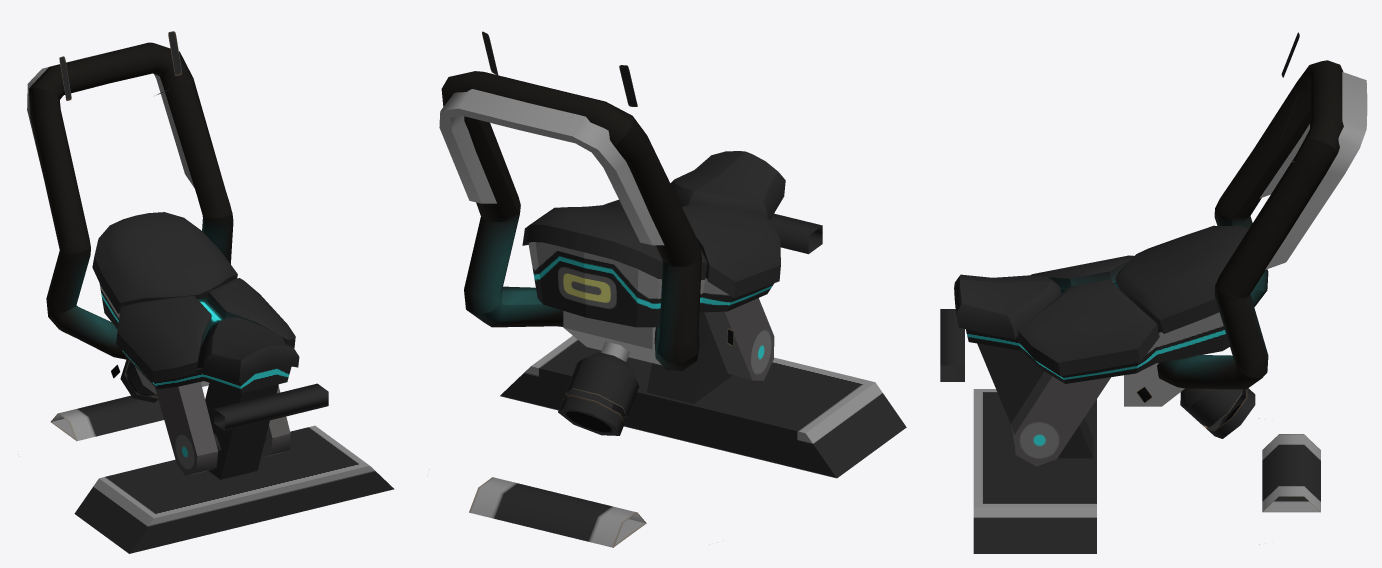
File: obj_interactive_saddle_05.fbx
3 renders of one model, left to right at view 1: azimuth 30°, elevation 25°; view 2: azimuth 150°, elevation 25°; view 3: azimuth 270°, elevation 25°, orthographic. The views are drawn at different scales.
Visible parts, largest first — view 1: obj_interactive_saddle_05; view 2: obj_interactive_saddle_05; view 3: obj_interactive_saddle_05.
Part boxes in pixels (box(x1,y1,x2,y2)): obj_interactive_saddle_05: box(18, 31, 394, 553); obj_interactive_saddle_05: box(429, 31, 906, 547); obj_interactive_saddle_05: box(940, 32, 1367, 553).
Bounding box in the file's own units: 2.77 × 3.83 × 3.49.
